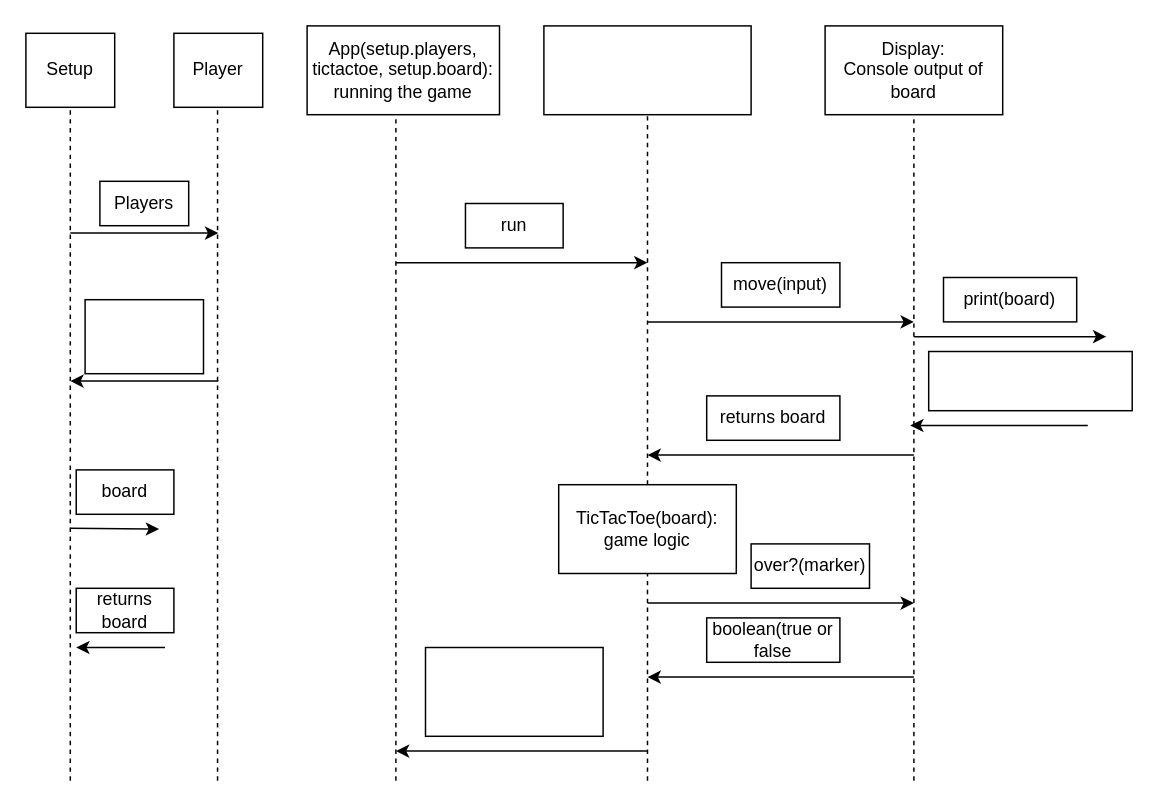
Some shapes in this 1159 by 808 pixel diagram are drawn without their labels. Here are the shapes that lost their labels. From the top down, the centre of each, then its label:
At [646,69]: "Player(marker, board): making moves".
At [144,336]: "An array of player instances".
At [1029,380]: "returns console output of board".
At [513,691]: "returns console output of 'game over' when game is over".
